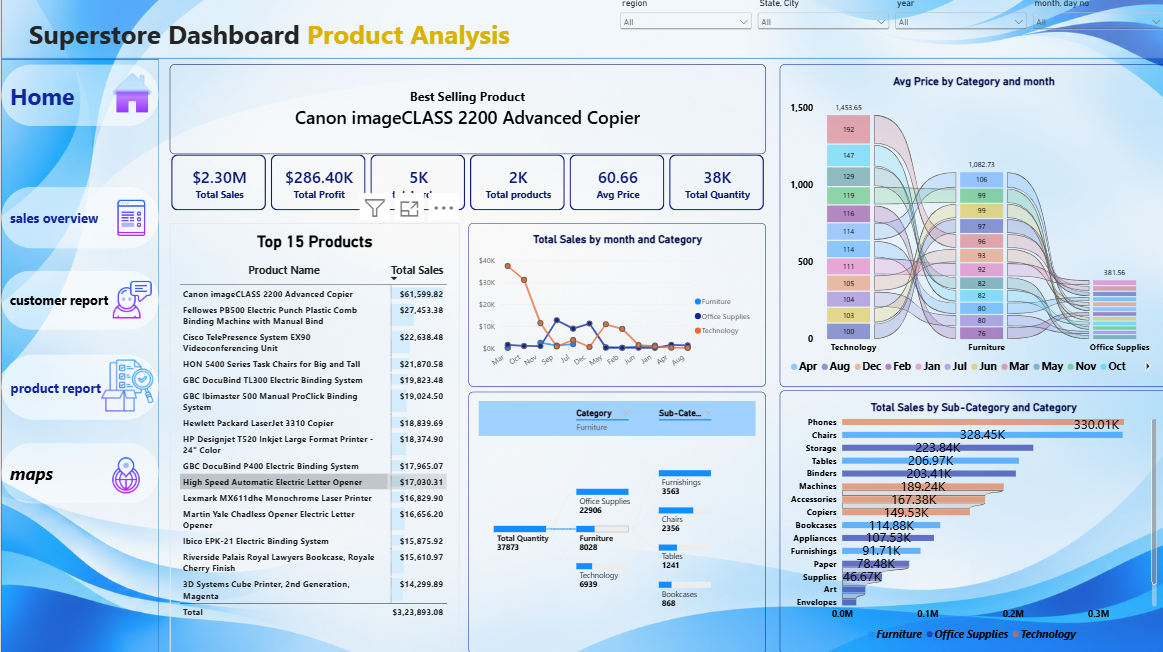

The dashboard page shown, as its layout file describes it:
{"tool":"powerbi","page":{"name":"product analysis","canvas":[1920,1080],"ordinal":4},"visuals":[{"type":"shape","box":[0,101.5,260.4,978.5],"z":0,"group":"g3"},{"type":"lineChart","fields":{"Category":["date.month"],"Series":["Orders.Category"],"Y":["mesure table.Total Sales"]},"box":[769.8,370.5,489.9,269.6],"z":0},{"type":"shape","box":[0,587,260.4,108.1],"z":1000,"group":"g3"},{"type":"barChart","fields":{"Category":["Orders.Sub-Category"],"Series":["Orders.Category"],"Y":["mesure table.Total Sales"]},"box":[1282.3,646.3,638.1,434.3],"z":1000},{"type":"shape","box":[0,0,1920.4,99.7],"z":2000,"group":"g1"},{"type":"shape","box":[0,311.8,260.4,102],"z":2000,"group":"g3"},{"type":"group","id":"g1","title":"Group 2","box":[0,0,1920.4,109.7],"z":3000,"group":"g2"},{"type":"cardVisual","fields":{"Data":["mesure table.Total Sales","mesure table.Total Profit","mesure table.total orders","mesure table.Total products","mesure table.Avg Price","mesure table.Total Quantity"]},"box":[277.9,255.2,981.8,96.7],"z":3000},{"type":"shape","box":[0,733.9,260.4,100],"z":3000,"group":"g3"},{"type":"cardVisual","fields":{"Data":["Min(Orders.Product Name)"]},"box":[277.9,109.1,981.8,148.2],"z":4000},{"type":"shape","box":[0,450.3,260.4,97.9],"z":4000,"group":"g3"},{"type":"tableEx","title":"Top 15 Products","fields":{"Values":["Orders.Product Name","mesure table.Total Sales"]},"box":[277.9,370.5,477.5,710.1],"z":5000},{"type":"image","box":[165.3,595.2,86.8,86.1],"z":5000,"group":"g3"},{"type":"ribbonChart","fields":{"Category":["Orders.Category"],"Series":["date.month"],"Y":["mesure table.Avg Price"]},"box":[1282.3,109.1,638.1,531],"z":6000},{"type":"image","box":[173.6,462.6,86.8,73.4],"z":6000,"group":"g3"},{"type":"group","id":"g2","title":"Group 3","box":[0,0,1920.4,109.7],"z":7000},{"type":"image","box":[164.8,749,82.3,73.3],"z":7000,"group":"g3"},{"type":"slicer","fields":{"Values":["People.region"]},"box":[1015.1,0,226.7,98.9],"z":8000,"group":"g2"},{"type":"shape","box":[0,109.6,260,101.9],"z":8000,"group":"g3"},{"type":"decompositionTreeVisual","fields":{"Analyze":["mesure table.Total Quantity"],"ExplainBy":["Orders.Category","Orders.Sub-Category"]},"box":[769.8,648.4,489.9,432.2],"z":8000},{"type":"group","id":"g3","title":"Group 1","box":[0,101.5,260.4,978.5],"z":8001},{"type":"slicer","fields":{"Values":["date.month","date.day no"]},"box":[1693.3,0,226.7,98.9],"z":9000,"group":"g2"},{"type":"image","box":[172.9,119.8,86.8,73.4],"z":9000,"group":"g3"},{"type":"slicer","fields":{"Values":["Orders.State","Orders.City"]},"box":[1240.9,0,226.7,98.9],"z":10000,"group":"g2"},{"type":"image","box":[177,325.3,75.3,73.2],"z":10000,"group":"g3"},{"type":"slicer","fields":{"Values":["date.year"]},"box":[1466.8,0,226.7,98.9],"z":11000,"group":"g2"},{"type":"textbox","box":[10,10,862.6,99.7],"z":12000,"group":"g1"}]}

Visuals, with their boxes in screenshot pixels (x1, y1, x2, y2), scaled from the page's 1920x1080 canvas onto the 1163x652 screenshot:
shape: bbox=(0, 61, 158, 651)
lineChart - date.month x Orders.Category: bbox=(466, 224, 763, 386)
shape: bbox=(0, 354, 158, 420)
barChart - Orders.Sub-Category x Orders.Category: bbox=(777, 390, 1162, 651)
shape: bbox=(0, 0, 1162, 60)
shape: bbox=(0, 188, 158, 250)
"Group 2" group: bbox=(0, 0, 1162, 66)
cardVisual - mesure table.Total Sales x mesure table.Total Profit: bbox=(168, 154, 763, 212)
shape: bbox=(0, 443, 158, 503)
cardVisual - Min(Orders.Product Name): bbox=(168, 66, 763, 155)
shape: bbox=(0, 272, 158, 331)
"Top 15 Products" tableEx: bbox=(168, 224, 458, 651)
image: bbox=(100, 359, 153, 411)
ribbonChart - Orders.Category x date.month: bbox=(777, 66, 1162, 386)
image: bbox=(105, 279, 158, 324)
"Group 3" group: bbox=(0, 0, 1162, 66)
image: bbox=(100, 452, 150, 496)
slicer - People.region: bbox=(615, 0, 752, 60)
shape: bbox=(0, 66, 157, 128)
decompositionTreeVisual - mesure table.Total Quantity x Orders.Category: bbox=(466, 391, 763, 651)
"Group 1" group: bbox=(0, 61, 158, 651)
slicer - date.month x date.day no: bbox=(1026, 0, 1162, 60)
image: bbox=(105, 72, 157, 117)
slicer - Orders.State x Orders.City: bbox=(752, 0, 889, 60)
image: bbox=(107, 196, 153, 241)
slicer - date.year: bbox=(888, 0, 1026, 60)
textbox: bbox=(6, 6, 529, 66)
